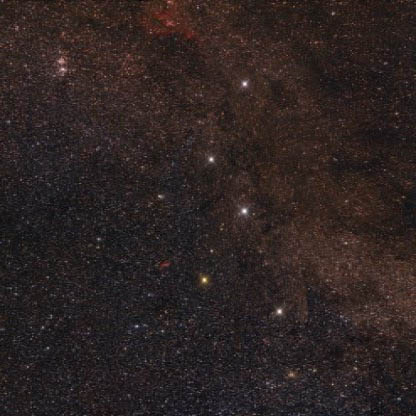Cassiopeia: (231, 71, 261, 108), (191, 262, 218, 290), (267, 301, 295, 327), (230, 196, 254, 222), (199, 149, 223, 171)
